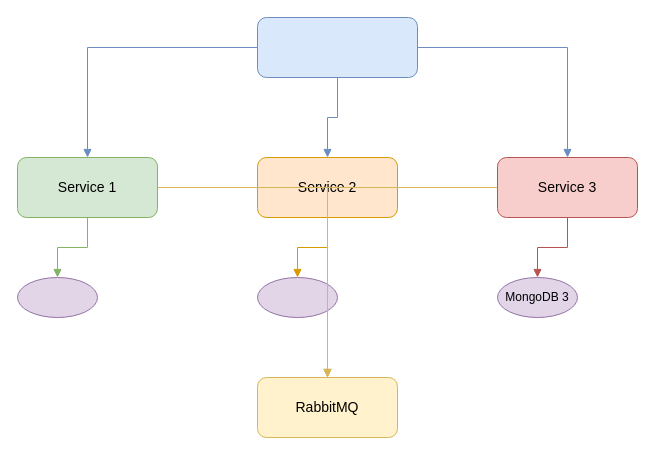
The diagram is 655 pixels wide and 455 high, and some of its shapes have lost their labels. The box of each missing label's shape, as (x1, y1, x2, y2) in pixels:
API Gateway: (256, 16, 418, 78)
MongoDB 1: (16, 276, 98, 318)
MongoDB 2: (256, 276, 338, 318)
